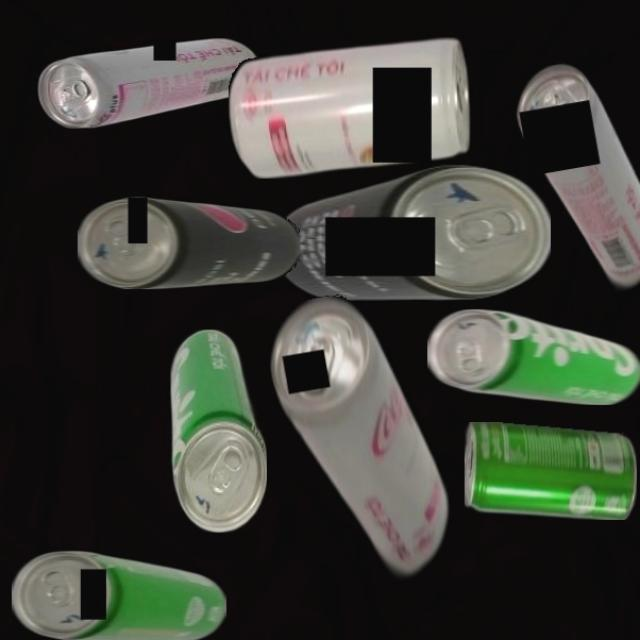debris: (260, 282, 466, 613), (272, 164, 551, 301), (228, 36, 472, 179), (508, 52, 640, 315), (37, 37, 271, 129), (427, 308, 640, 405), (78, 196, 300, 289), (169, 328, 267, 532), (11, 549, 226, 640), (463, 421, 637, 520)
